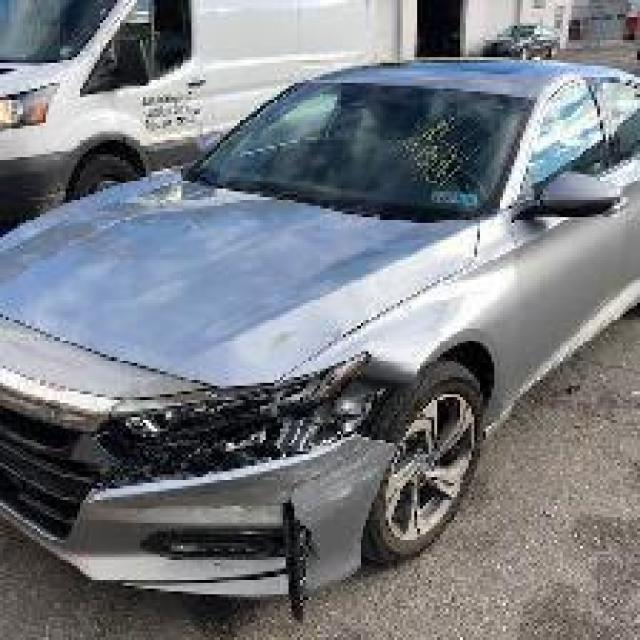damaged: (77, 354, 437, 629)
